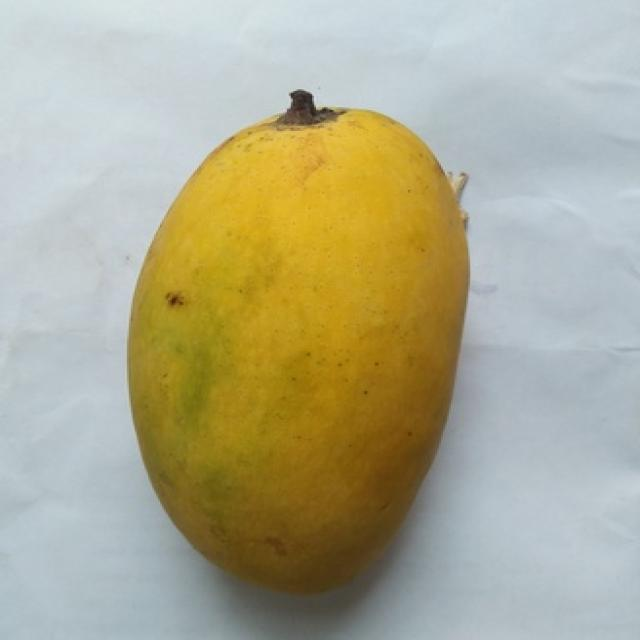Mango: (129, 93, 466, 591)
